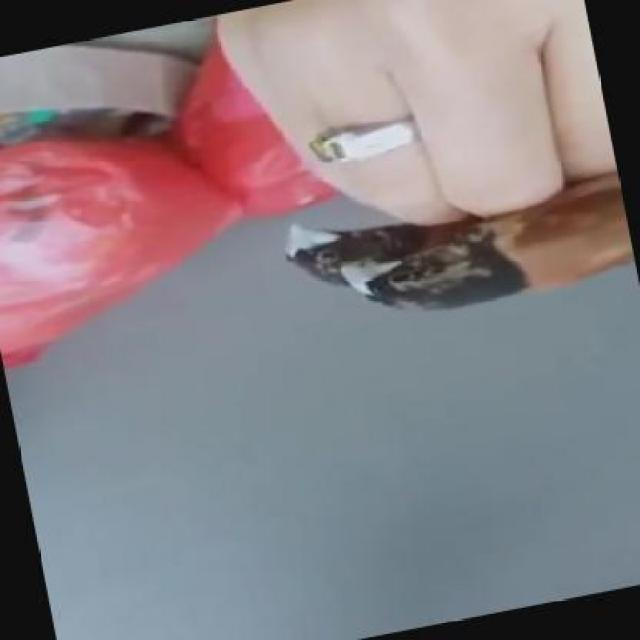Bird: (283, 190, 640, 322)
